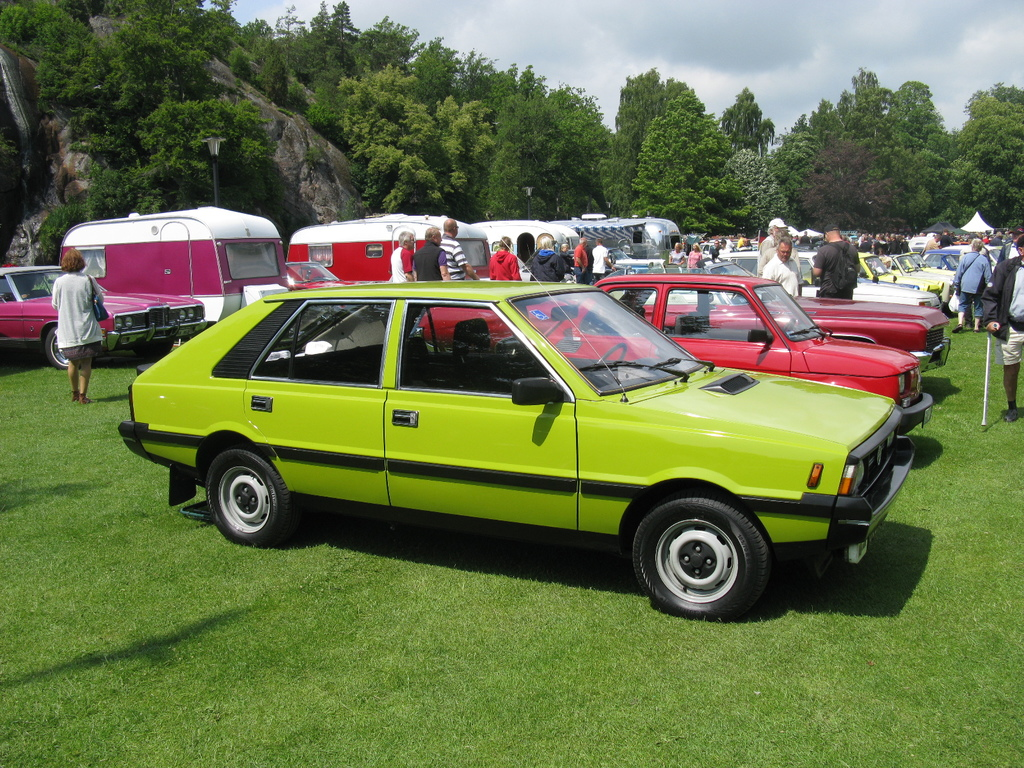Car: (0, 232, 1013, 619)
